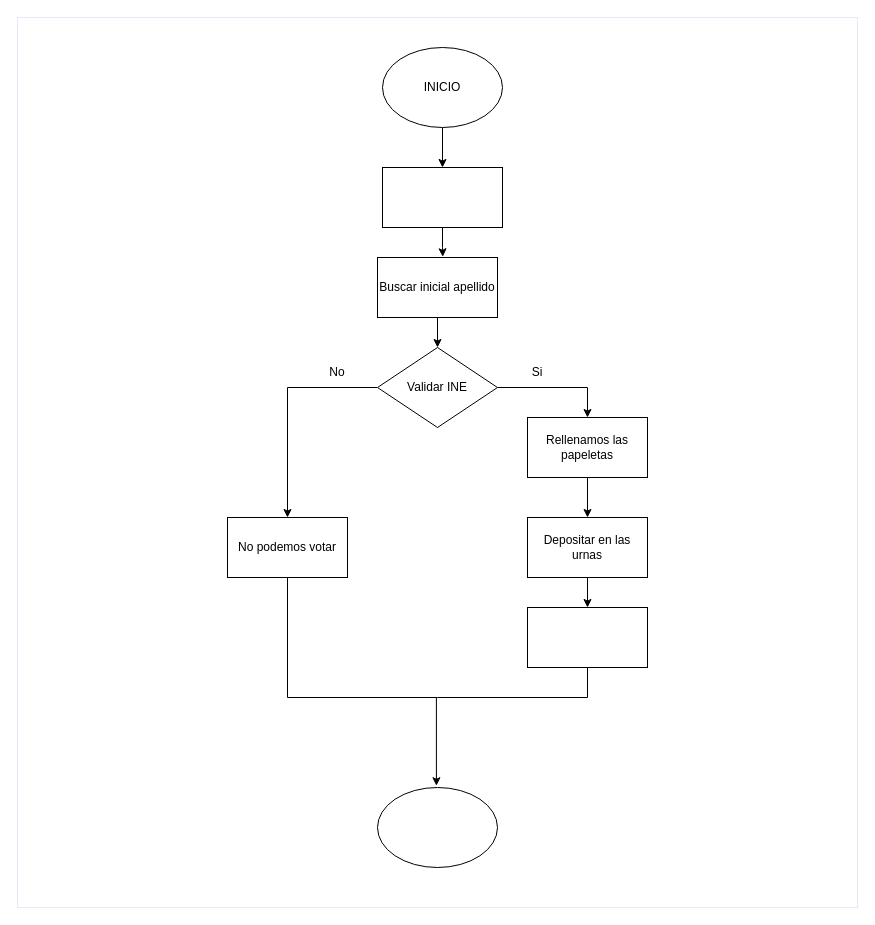
This 875x925 diagram has some shape labels left out. The centre of each missing label's shape, as x and y in pixels:
Entregar el INE: point (442, 197)
FIN: point (437, 827)
Nos sellan el dedo con tinta indeleble: point (587, 637)
